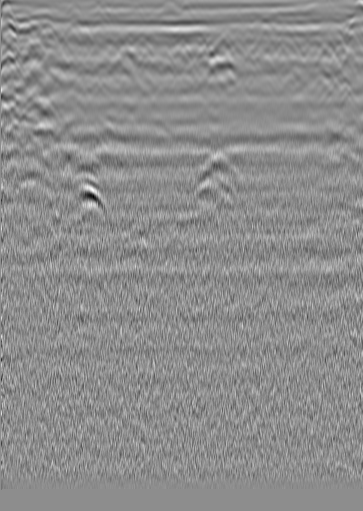가스: (68, 186, 106, 220)
상수: (317, 41, 337, 61)
오수: (18, 19, 38, 39)
우수: (189, 29, 209, 49)
